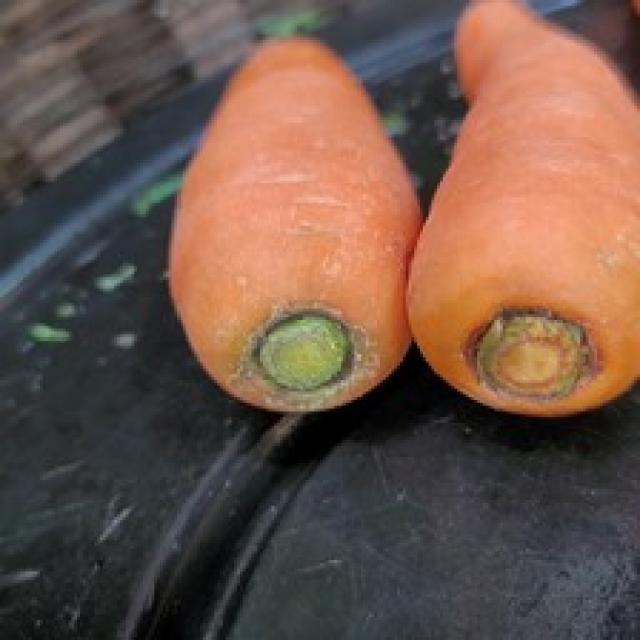carrot: (403, 0, 639, 419), (173, 31, 415, 414)
